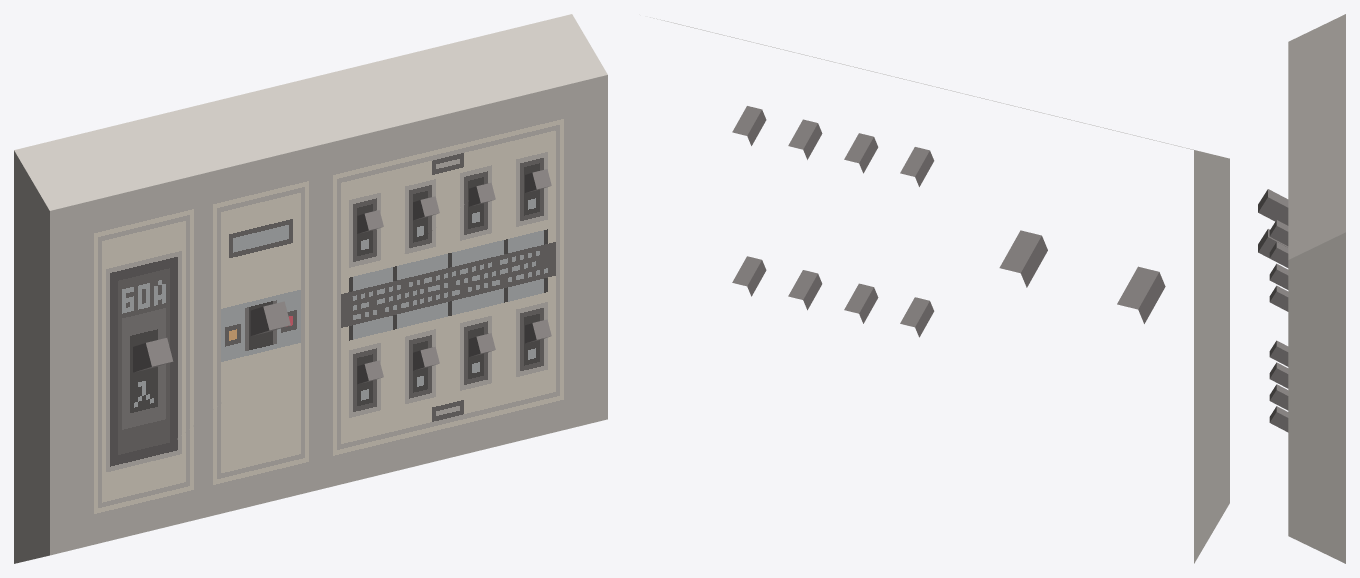
File: kd_stage_135d18_4_65_bounded.glb
3 renders of one model, left to right at view 1: azimuth 30°, elevation 25°; view 2: azimuth 150°, elevation 25°; view 3: azimuth 270°, elevation 25°, orthographic. The views are drawn at different scales.
Visible parts, largest first — view 1: kd_stage_135d18_4_65_bounded; view 2: kd_stage_135d18_4_65_bounded; view 3: kd_stage_135d18_4_65_bounded.
Part boxes in pixels (x1,y1,x2,y2): kd_stage_135d18_4_65_bounded: [14, 14, 607, 563]; kd_stage_135d18_4_65_bounded: [650, 17, 1229, 563]; kd_stage_135d18_4_65_bounded: [1258, 14, 1345, 563].
Bounding box in the file's own units: 0.45 × 0.3188 × 0.0764.
1 material, 1 textured.
